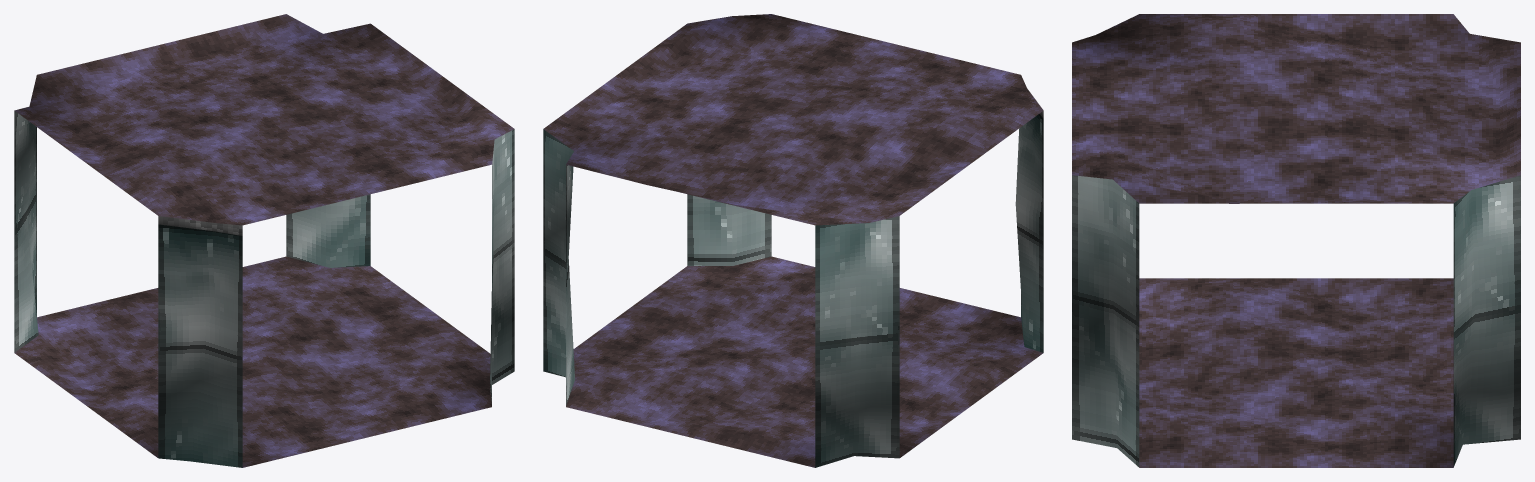
The model's file is Cross Piece.fbx.
3 views of the same model, side by side, from view 1: azimuth 30°, elevation 25°; view 2: azimuth 150°, elevation 25°; view 3: azimuth 270°, elevation 25° (orthographic). The views are drawn at different scales.
Visible parts, largest first — view 1: Cross Piece; view 2: Cross Piece; view 3: Cross Piece.
Part boxes in pixels (x1,y1,x2,y2): Cross Piece: [14, 14, 514, 467]; Cross Piece: [543, 14, 1043, 467]; Cross Piece: [1072, 14, 1520, 467].
Size of the model in its own units: 200 by 139 by 200.
